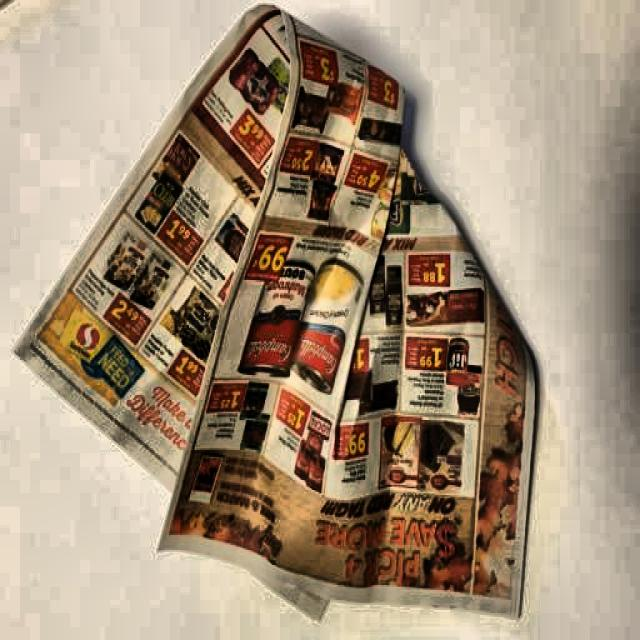paper: (18, 4, 534, 626)
